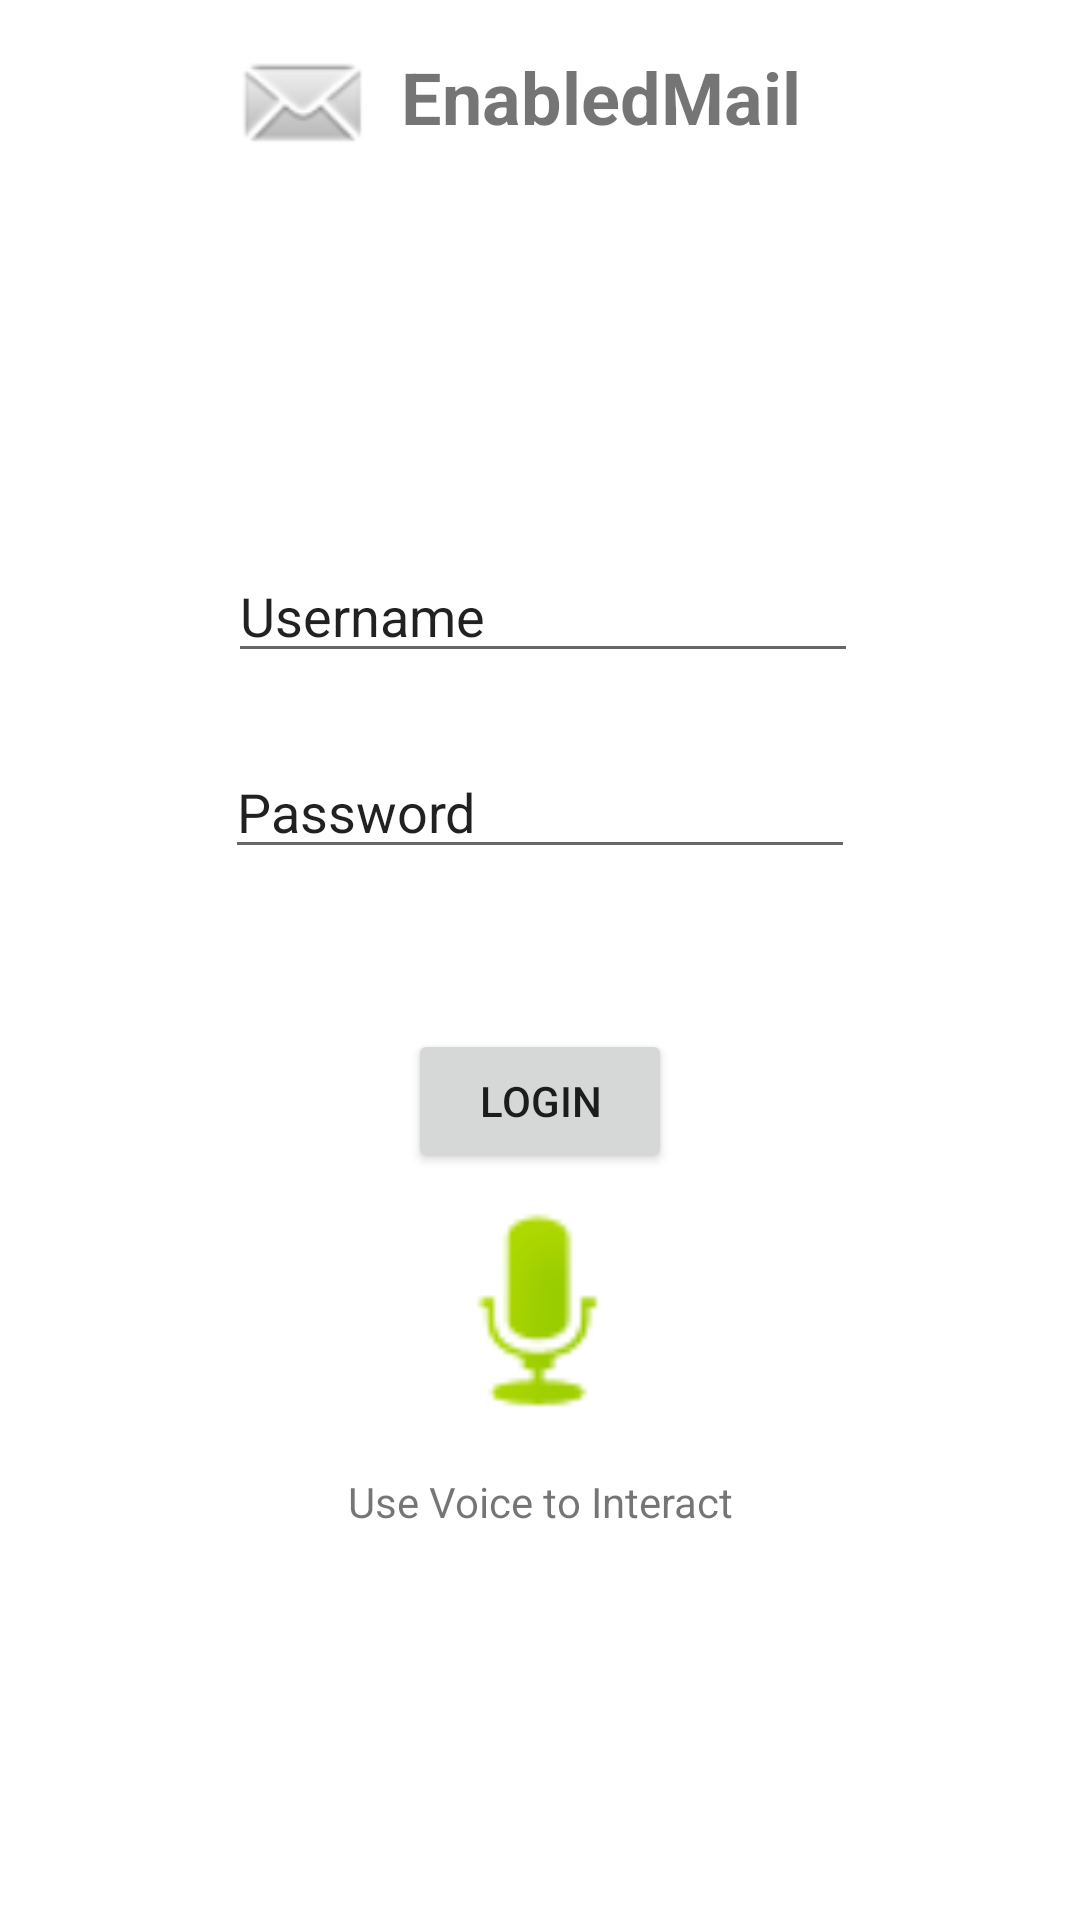

Where to tap for icons on this 1080 × 1920 app screen, as (x,y):
presence audio online: (537,1310)
sym action email: (303,102)
